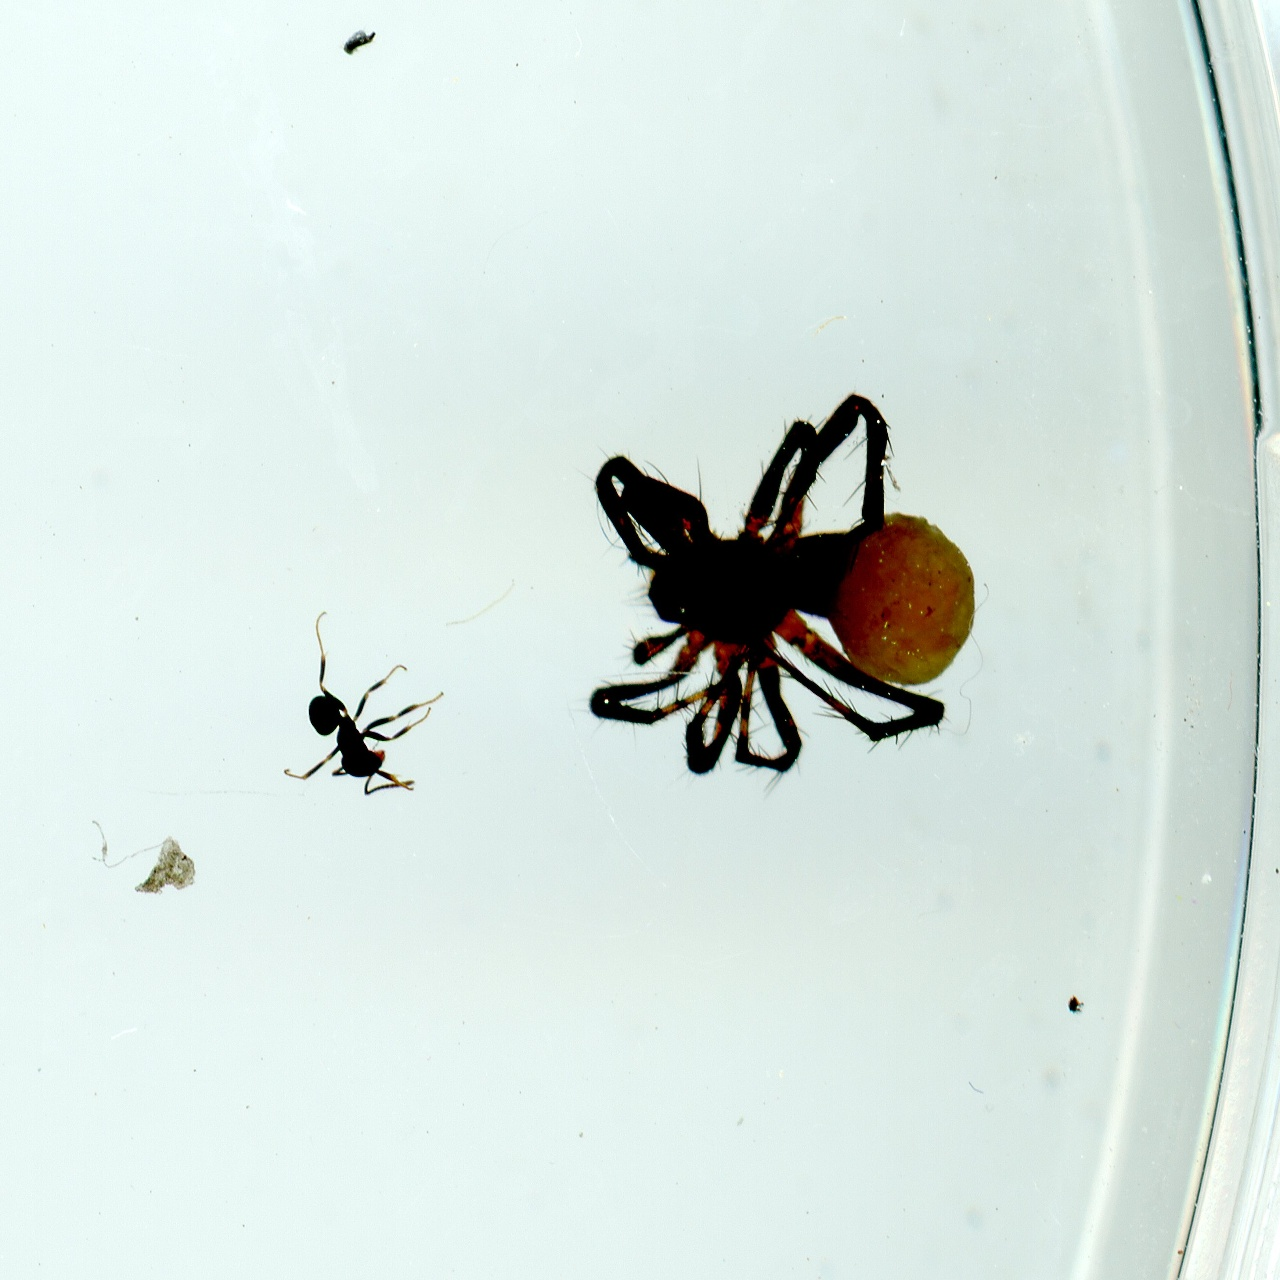arthropod: (573, 371, 982, 802), (281, 603, 449, 796)
